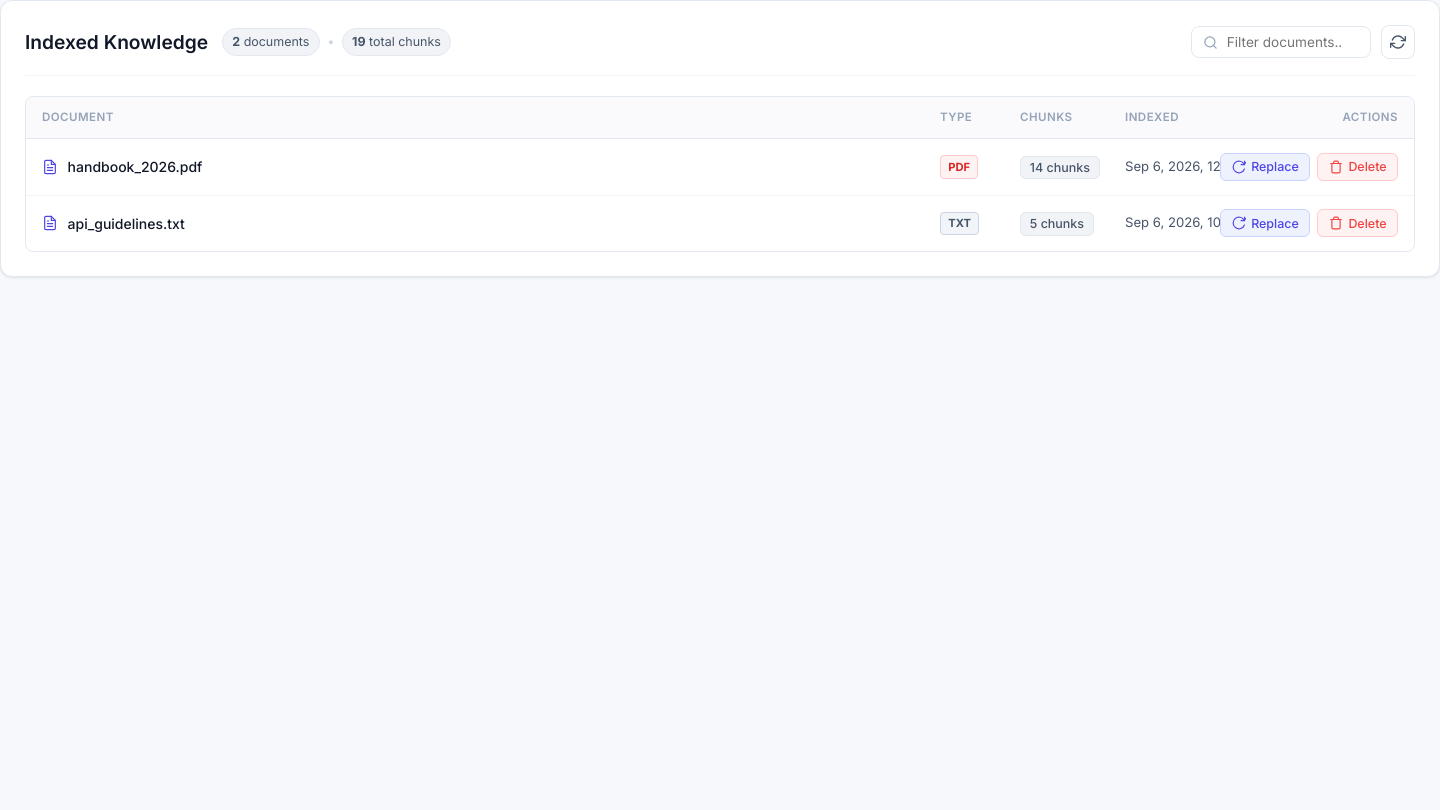
Test: Document Management CRUD Component & Service Tests › 9. Clicking replace button opens ReplaceDocumentModal
Click the button with test id "replace-btn-handbook_2026.pdf" at {"x": 1265, "y": 167}, box [1220,153,1310,181]
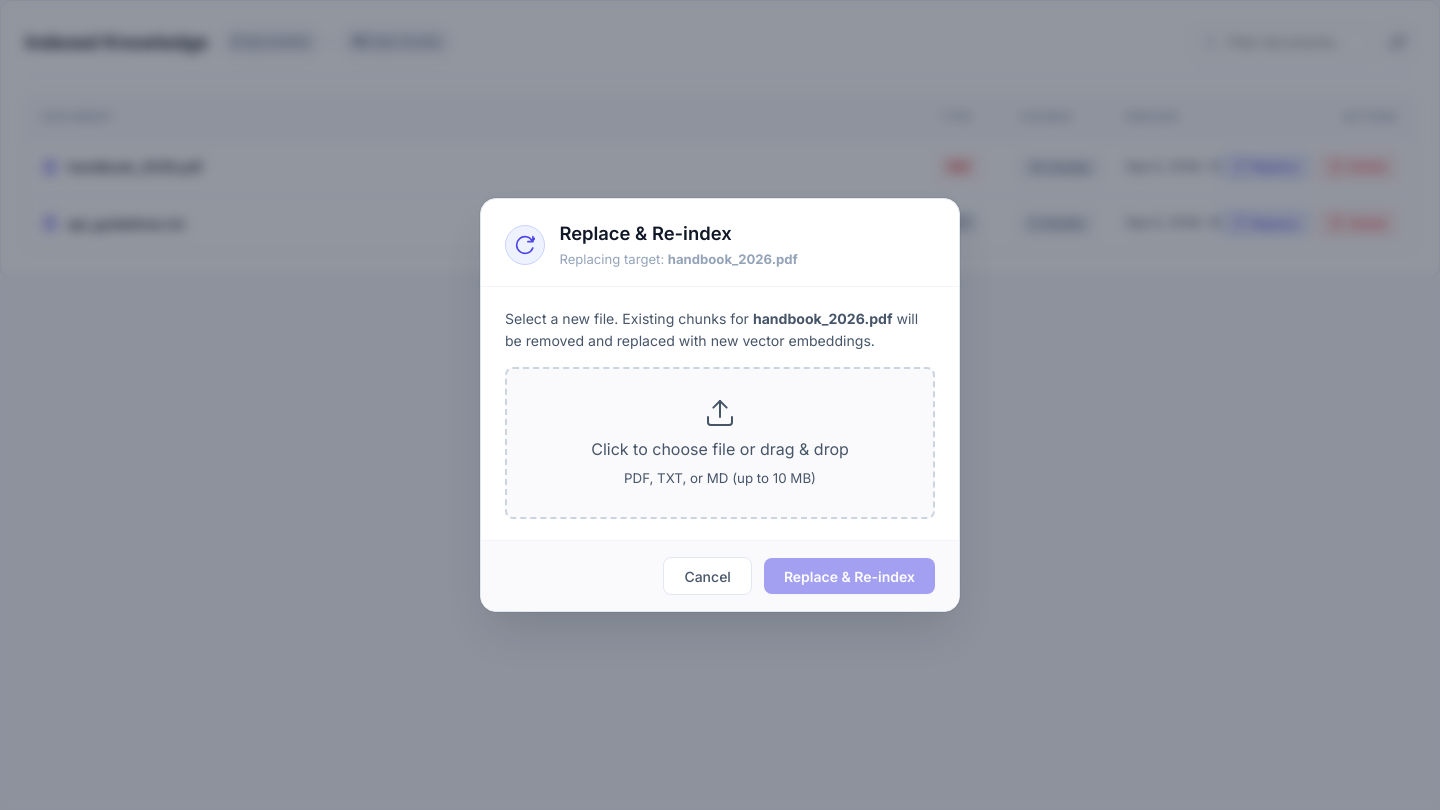
Expected: the dialog is shown
Expected: the heading "Replace & Re-index" is shown, [559,222,732,244]
